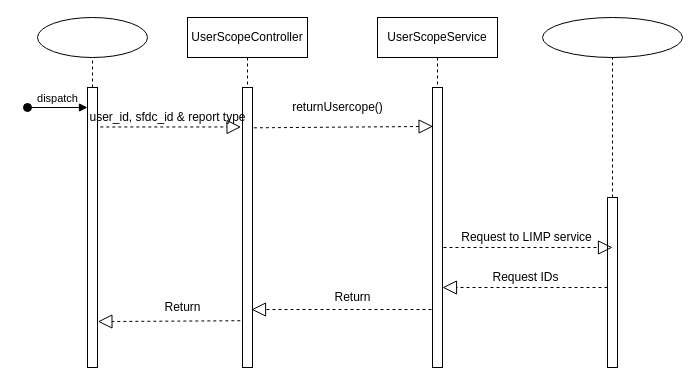
Image size: 700x385. Some labels were removed from this diagram. The centre of each missing label's shape, as x and y in pixels:
LIMP Service: pixel 612 37
Share Service: pixel 92 37
